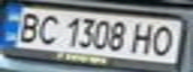0: (93, 17, 112, 52)
1: (60, 14, 81, 48)
3: (78, 16, 96, 50)
8: (109, 18, 133, 53)
B: (12, 9, 45, 44)
C: (33, 11, 63, 46)
H: (127, 20, 160, 55)
O: (148, 22, 181, 56)
